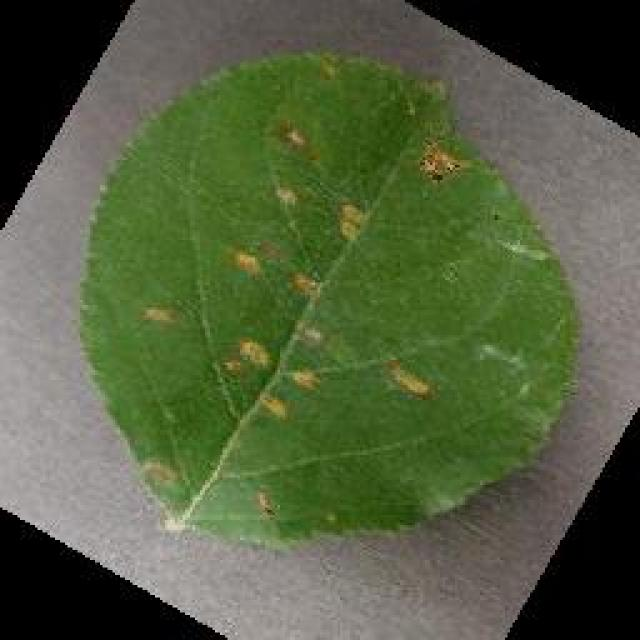apple healthy: (75, 45, 583, 550)
